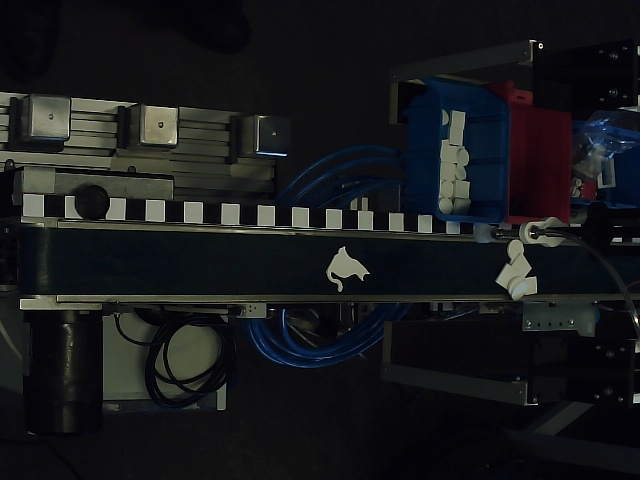cat: (325, 245, 370, 293)
